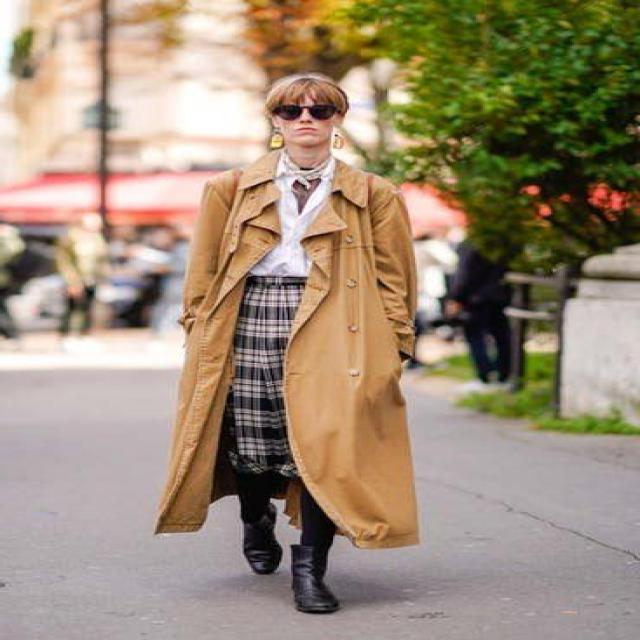coat: (149, 145, 420, 551)
short sleeve shirt: (246, 151, 343, 279)
skirt: (222, 271, 318, 480)
